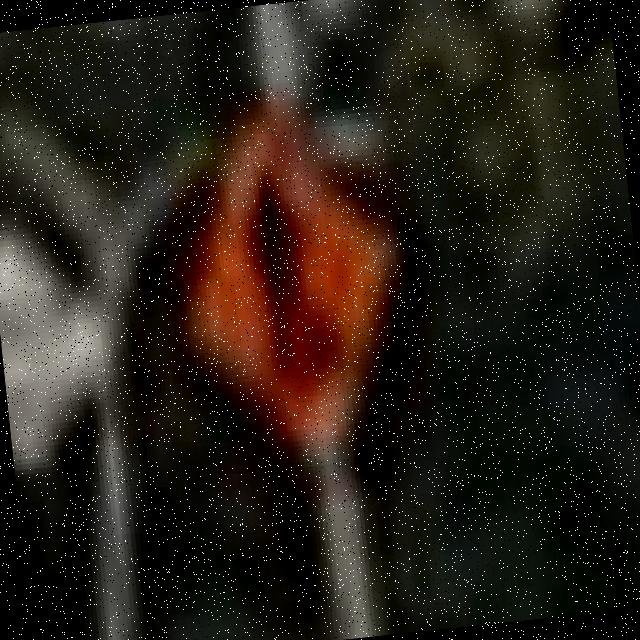Przejscie dla pieszych: (165, 115, 428, 467)
